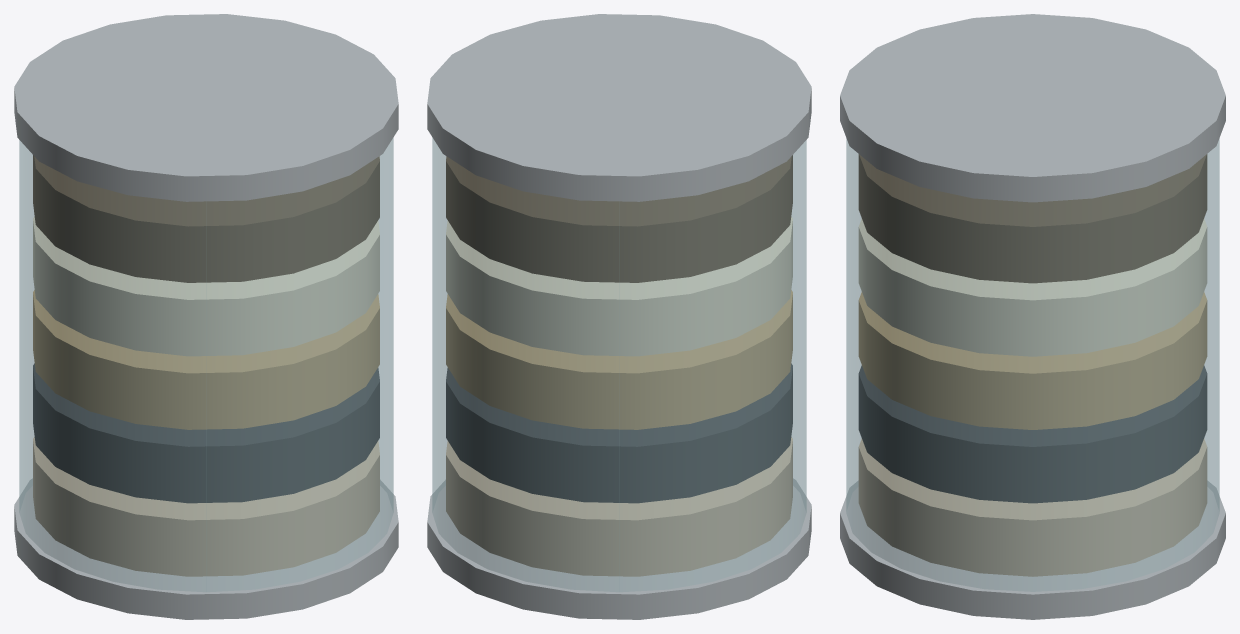
Rendered from catalogue-filter-media.glb.
3 views of the same model, side by side, from view 1: azimuth 30°, elevation 25°; view 2: azimuth 150°, elevation 25°; view 3: azimuth 270°, elevation 25° (orthographic).
Bounding box in the file's own units: 0.62 × 0.785 × 0.62.
